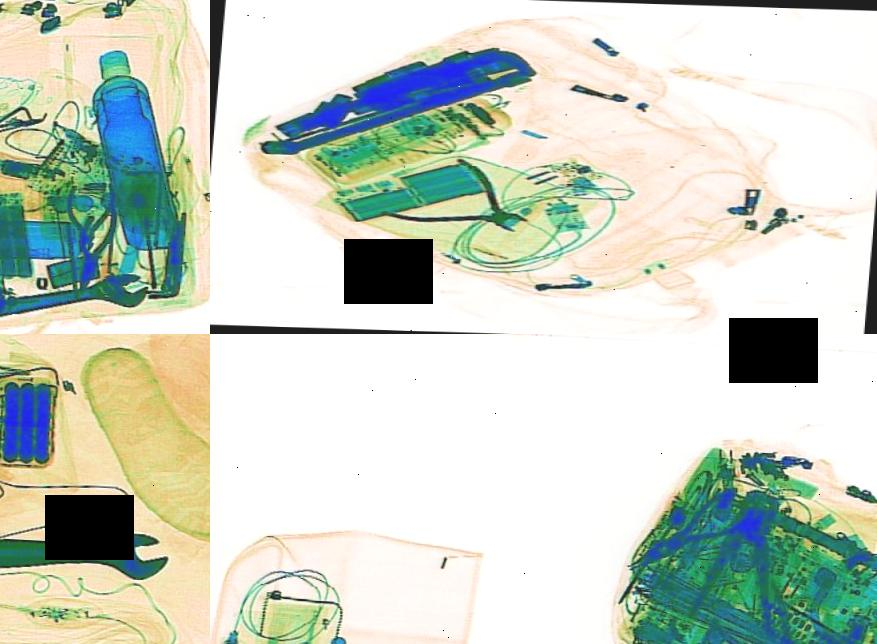Pliers: (366, 154, 575, 252), (685, 482, 810, 636), (624, 486, 762, 584), (703, 596, 845, 644), (62, 172, 119, 258), (73, 199, 120, 294)
Wrench: (0, 513, 173, 590), (0, 258, 151, 332)
